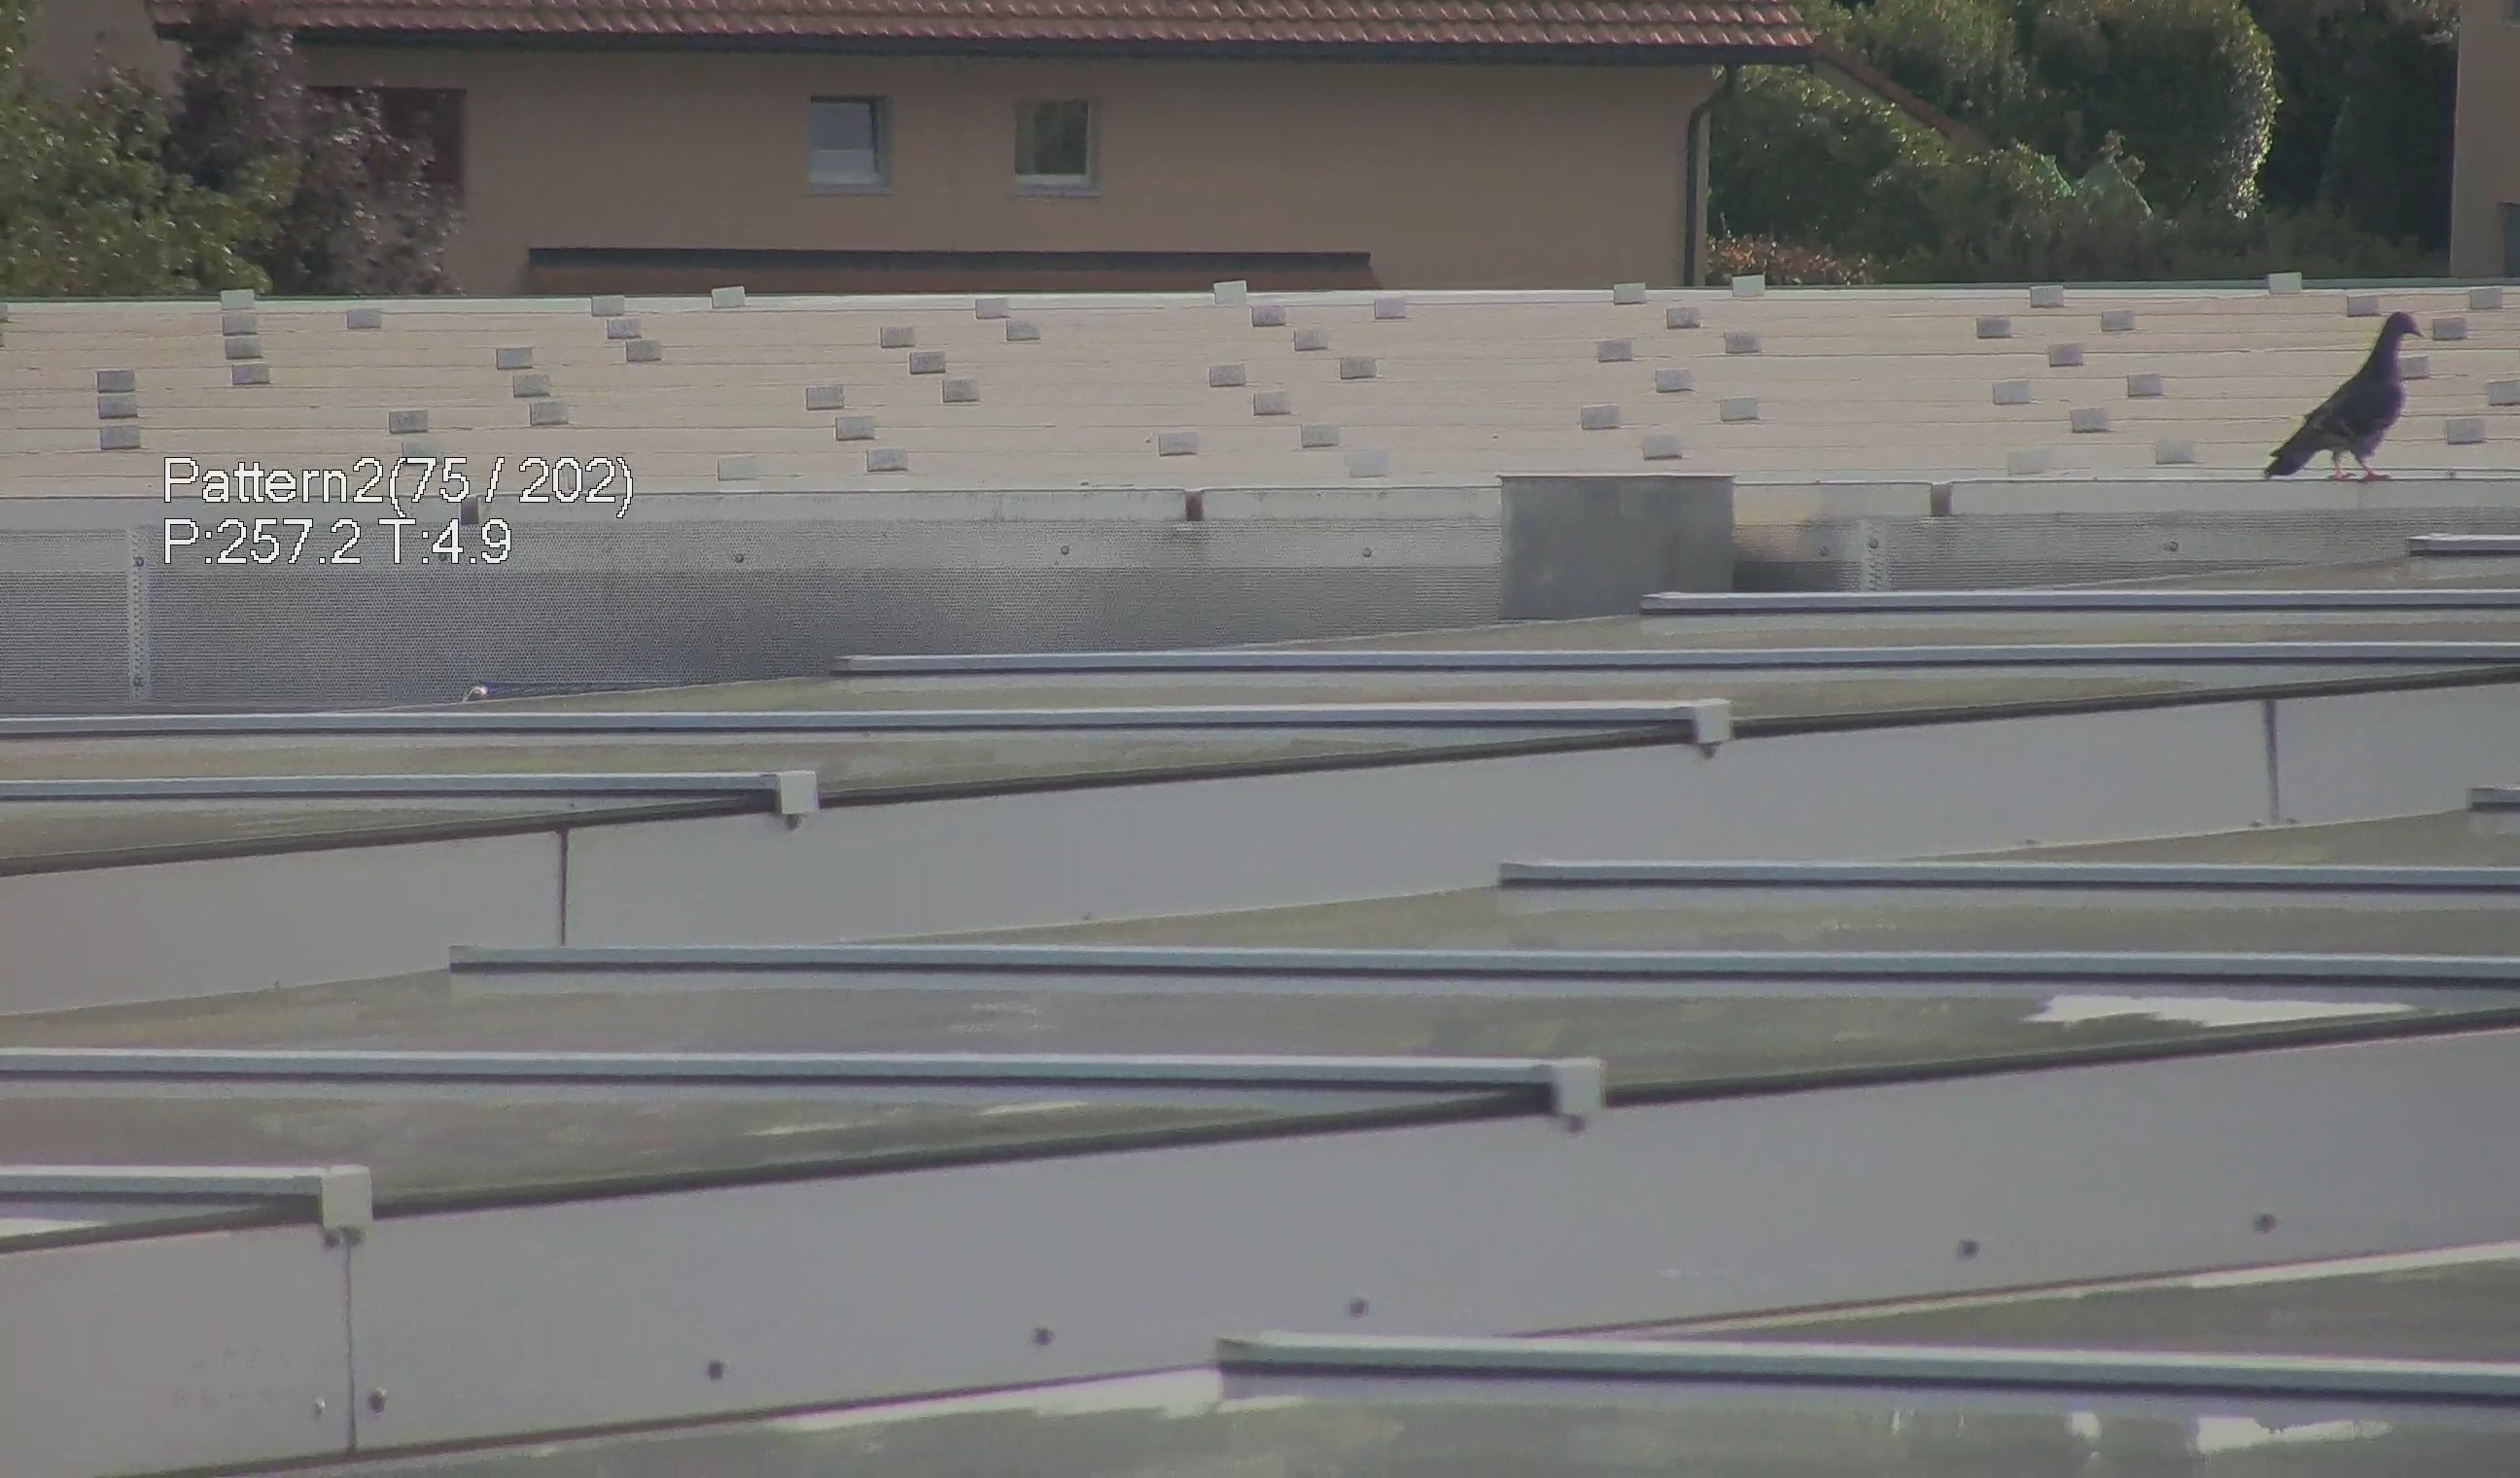Pigeon: (2279, 301, 2462, 489)
